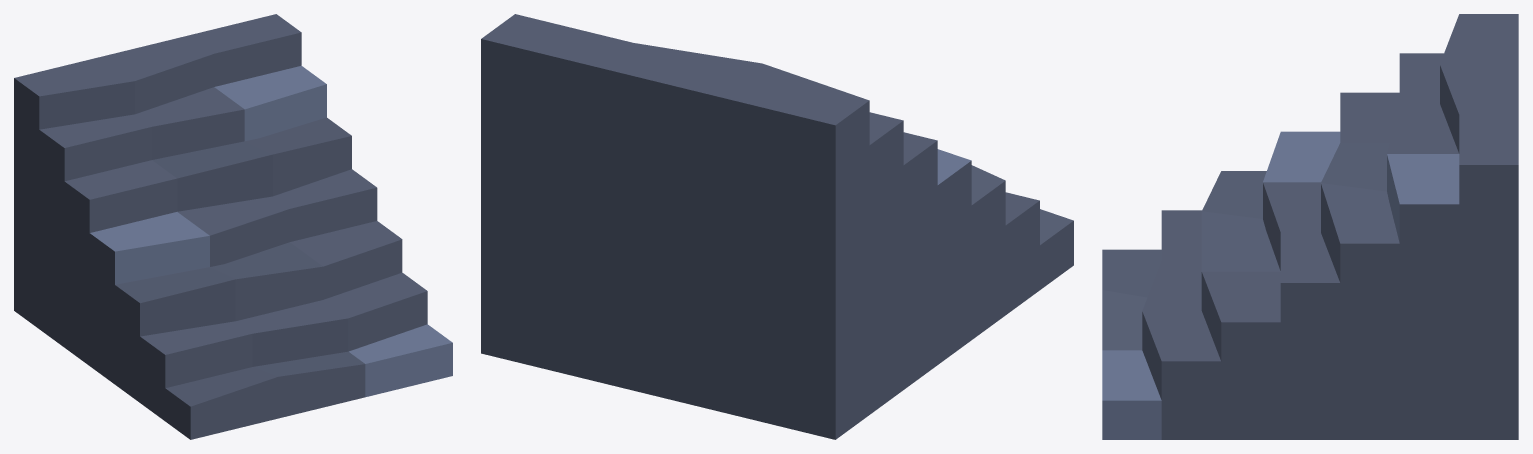
The model's file is escalera chica.fbx.
3 views of the same model, side by side, from view 1: azimuth 30°, elevation 25°; view 2: azimuth 150°, elevation 25°; view 3: azimuth 270°, elevation 25° (orthographic). The views are drawn at different scales.
Parts seen in each view (by area): view 1: stairs.001; view 2: stairs.001; view 3: stairs.001.
Part boxes in pixels (x1=…): stairs.001: x1=14, y1=14, x2=452, y2=439; stairs.001: x1=481, y1=14, x2=1073, y2=439; stairs.001: x1=1102, y1=14, x2=1518, y2=439.
Size of the model in its own units: 211 by 179 by 245.
